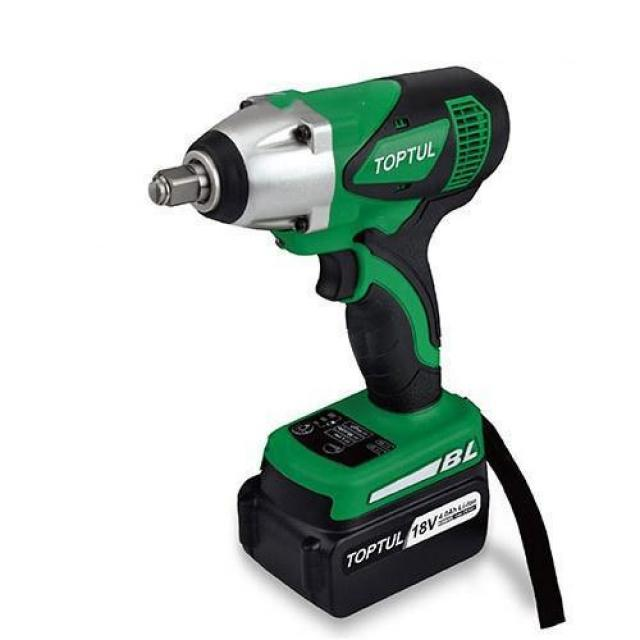drill: (149, 64, 511, 617)
